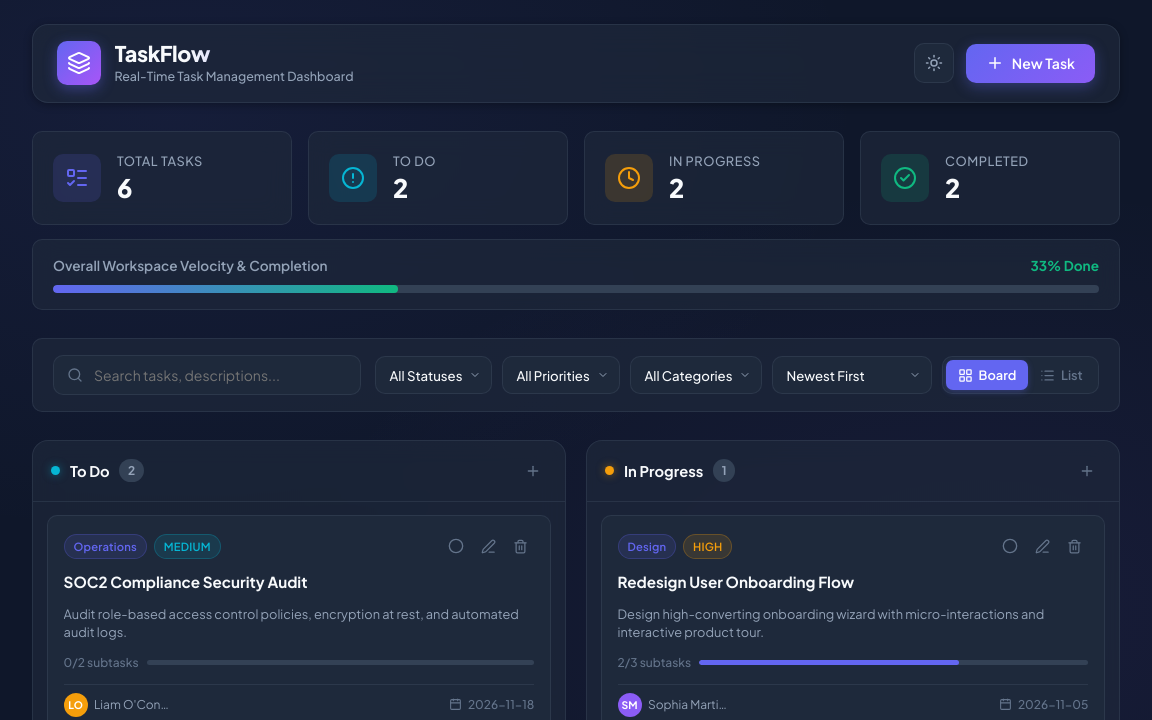
TaskFlow Dashboard Application › opens create task modal when clicking New Task
The width and height of the screenshot is (1152, 720).
Click the button "New Task" at [1030, 63], box top-left (966, 44), bottom-right (1095, 83)
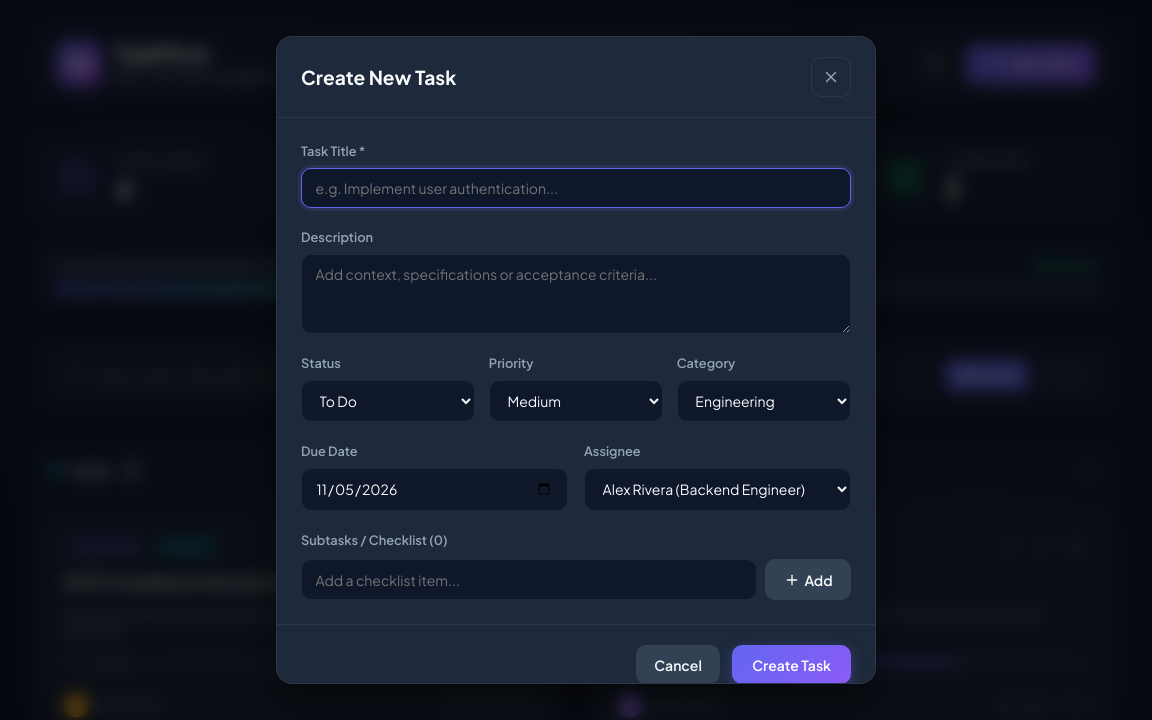
Result: the heading "Create New Task" is shown at top-left (301, 63), bottom-right (456, 91)
Result: the field with placeholder "e.g. Implement user authentication..." is shown at top-left (301, 168), bottom-right (851, 208)
